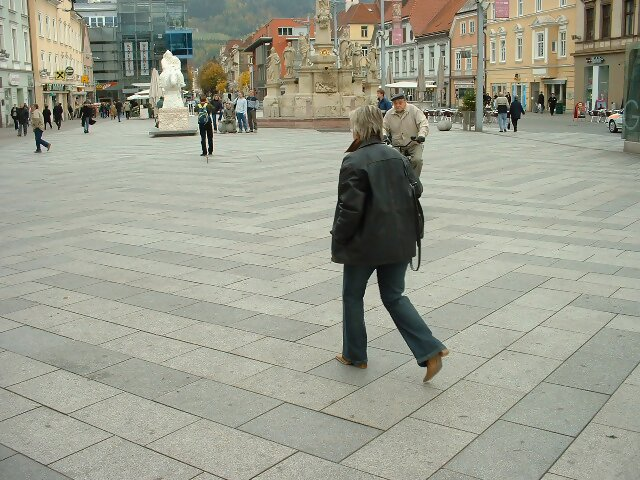person: (318, 102, 469, 376), (382, 91, 438, 164), (190, 91, 218, 158), (19, 100, 54, 153)
